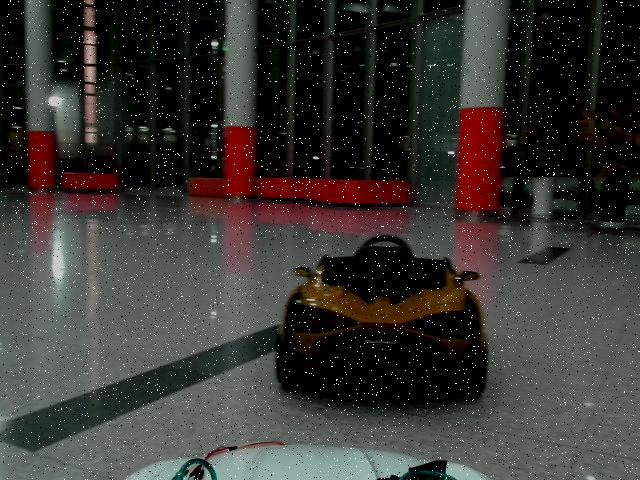car: (276, 236, 487, 397)
